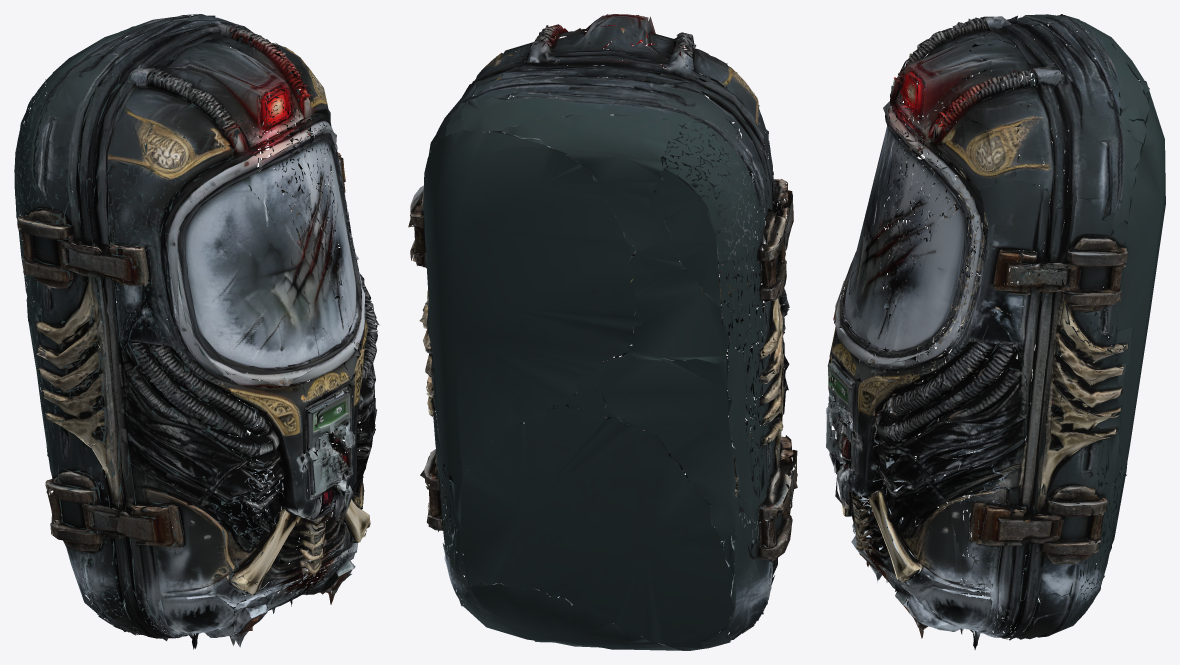
Rendered from corp_executive_sarcophagus.glb.
3 views of the same model, side by side, from view 1: azimuth 30°, elevation 25°; view 2: azimuth 150°, elevation 25°; view 3: azimuth 270°, elevation 25° (orthographic). The views are drawn at different scales.
Visible parts, largest first — view 1: node_0; view 2: node_0; view 3: node_0.
Boxes of the visible parts, x1,y1,x2,y2 form: node_0: (14,14,379,649); node_0: (408,14,797,650); node_0: (826,14,1165,649).
Size of the model in its own units: 0.6779 by 1.15 by 0.6186.
1 material, 1 textured.
